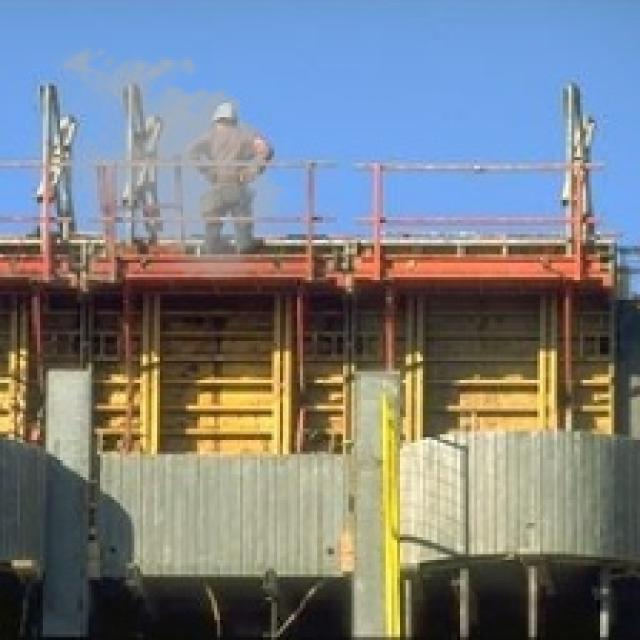Smoke: (28, 40, 300, 289)
